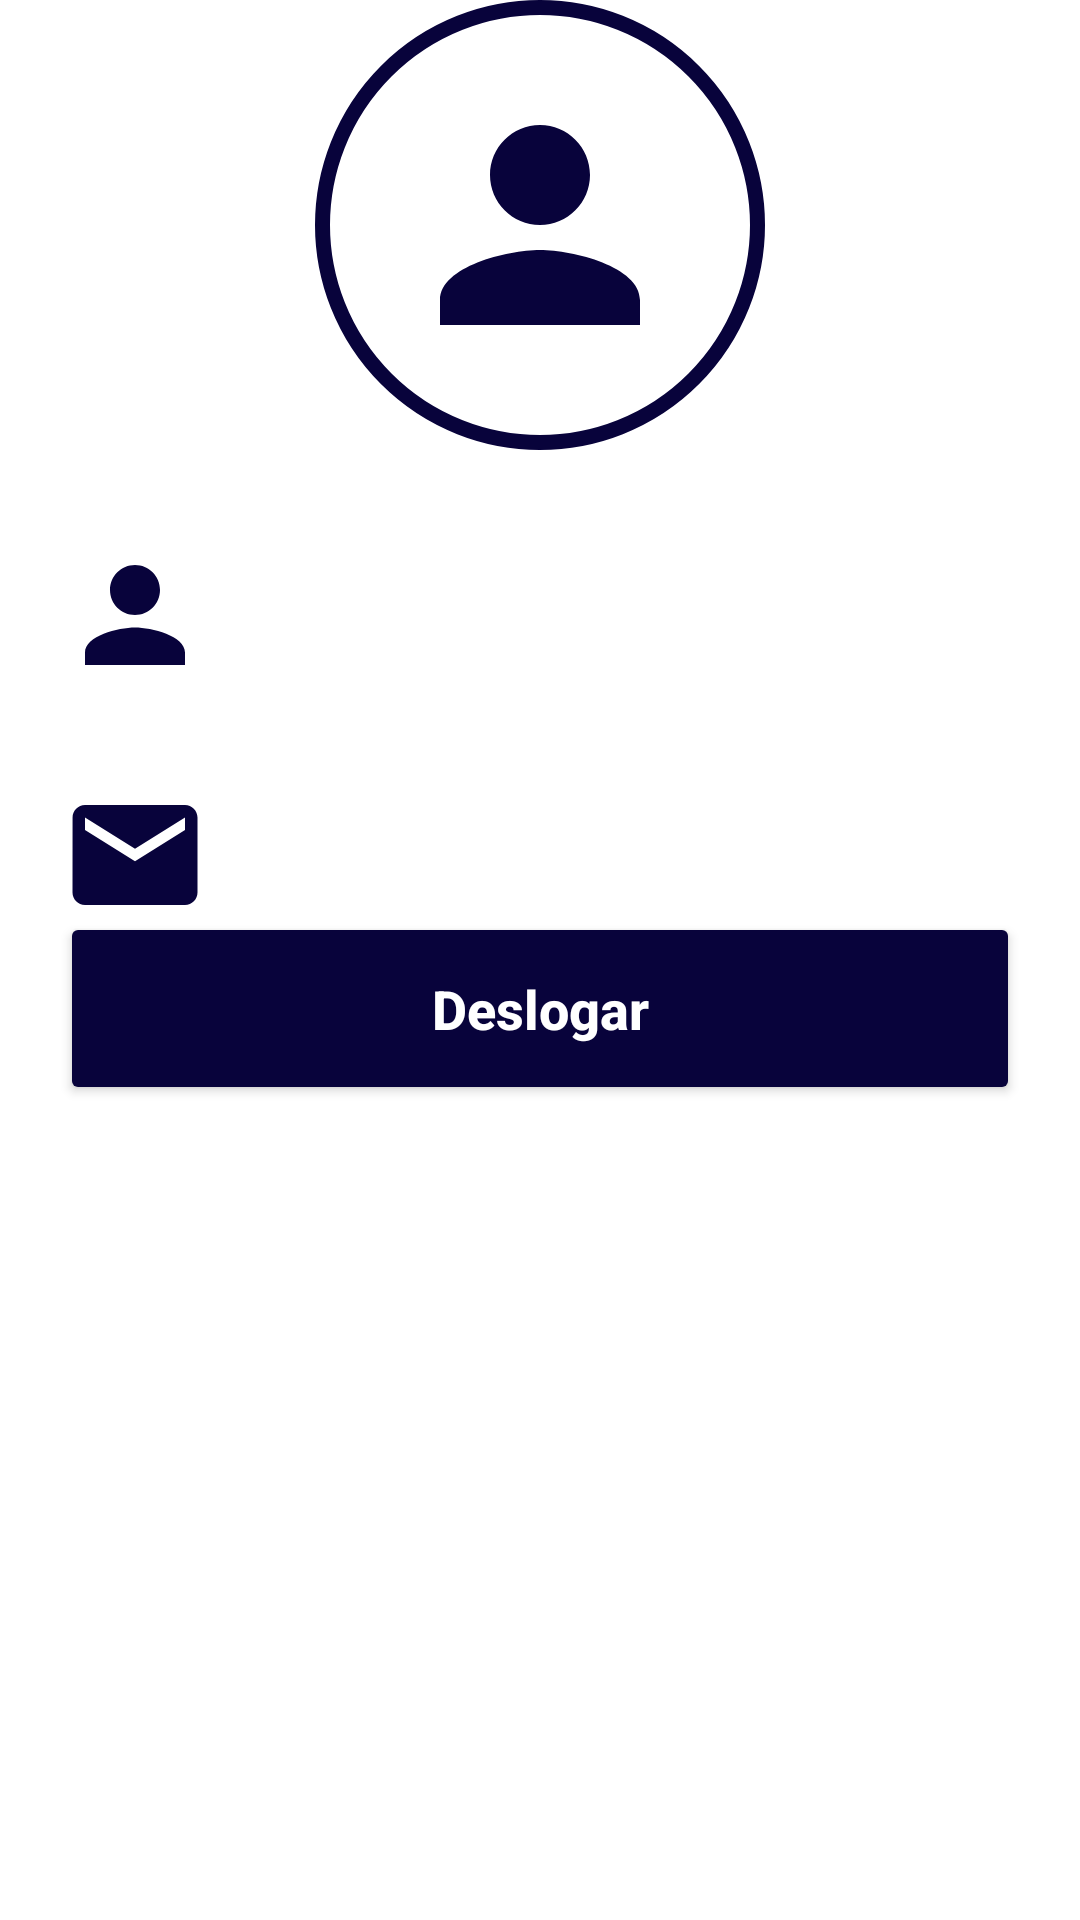

Locate icon controls on the screen. Image size 1080 x 1920, boxes as (x1, y1, x2, y2).
email: (72, 805, 198, 905)
